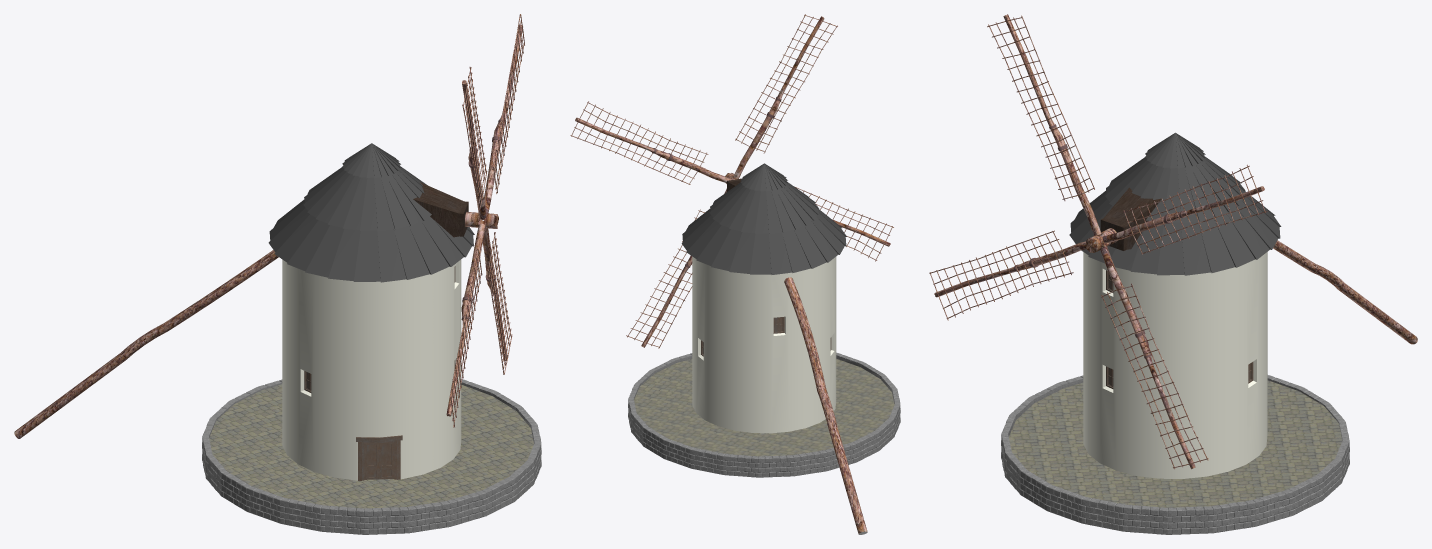
File: windmill3.obj
The picture shows the model from 3 angles, left to right: view 1: azimuth 30°, elevation 25°; view 2: azimuth 150°, elevation 25°; view 3: azimuth 270°, elevation 25°; orthographic projection. The views are drawn at different scales.
Parts seen in each view (by area): view 1: Mesh177 Componente_5_1 Group1 Model, Mesh49 Group2 Group1 Model, Mesh178 Agrupar_4_1 Group1 Model, Mesh147 Componente_1_1 Group15 Componente_6_1 Group4 Group1 Mode, Mesh148 Componente_1_2 Group15 Componente_6_1 Group4 Group1 Mode, Mesh170 Componente_1_24 Group15 Componente_6_1 Group4 Group1 Mod, Mesh149 Componente_1_3 Group15 Componente_6_1 Group4 Group1 Mode, Mesh169 Componente_1_23 Group15 Componente_6_1 Group4 Group1 Mod, Mesh150 Componente_1_4 Group15 Componente_6_1 Group4 Group1 Mode, Mesh146 Group14 Componente_6_1 Group4 Group1 Model, Mesh168 Componente_1_22 Group15 Componente_6_1 Group4 Group1 Mod, Mesh151 Componente_1_5 Group15 Componente_6_1 Group4 Group1 Mode (+11 smaller); view 2: Mesh177 Componente_5_1 Group1 Model, Mesh49 Group2 Group1 Model, Mesh178 Agrupar_4_1 Group1 Model, Mesh163 Componente_1_17 Group15 Componente_6_1 Group4 Group1 Mod, Mesh164 Componente_1_18 Group15 Componente_6_1 Group4 Group1 Mod, Mesh162 Componente_1_16 Group15 Componente_6_1 Group4 Group1 Mod, Mesh165 Componente_1_19 Group15 Componente_6_1 Group4 Group1 Mod, Mesh161 Componente_1_15 Group15 Componente_6_1 Group4 Group1 Mod, Mesh166 Componente_1_20 Group15 Componente_6_1 Group4 Group1 Mod, Mesh160 Componente_1_14 Group15 Componente_6_1 Group4 Group1 Mod, Mesh73 Componente_2_1 Group5 Group4 Group1 Model, Mesh121 Componente_2_3 Group5 Group4 Group1 Model (+11 smaller); view 3: Mesh177 Componente_5_1 Group1 Model, Mesh49 Group2 Group1 Model, Mesh156 Componente_1_10 Group15 Componente_6_1 Group4 Group1 Mod, Mesh155 Componente_1_9 Group15 Componente_6_1 Group4 Group1 Mode, Mesh157 Componente_1_11 Group15 Componente_6_1 Group4 Group1 Mod, Mesh154 Componente_1_8 Group15 Componente_6_1 Group4 Group1 Mode, Mesh178 Agrupar_4_1 Group1 Model, Mesh146 Group14 Componente_6_1 Group4 Group1 Model, Mesh158 Componente_1_12 Group15 Componente_6_1 Group4 Group1 Mod, Mesh73 Componente_2_1 Group5 Group4 Group1 Model, Mesh97 Componente_2_2 Group5 Group4 Group1 Model, Mesh159 Componente_1_13 Group15 Componente_6_1 Group4 Group1 Mod (+17 smaller).
Part boxes in pixels (x1=…): Mesh177 Componente_5_1 Group1 Model: x1=282, y1=259, x2=461, y2=480; Mesh49 Group2 Group1 Model: x1=209, y1=384, x2=533, y2=508; Mesh178 Agrupar_4_1 Group1 Model: x1=14, y1=250, x2=278, y2=438; Mesh147 Componente_1_1 Group15 Componente_6_1 Group4 Group1 Mode: x1=354, y1=143, x2=380, y2=281; Mesh148 Componente_1_2 Group15 Componente_6_1 Group4 Group1 Mode: x1=372, y1=144, x2=406, y2=282; Mesh170 Componente_1_24 Group15 Componente_6_1 Group4 Group1 Mod: x1=328, y1=144, x2=371, y2=281; Mesh149 Componente_1_3 Group15 Componente_6_1 Group4 Group1 Mode: x1=372, y1=144, x2=429, y2=279; Mesh169 Componente_1_23 Group15 Componente_6_1 Group4 Group1 Mod: x1=305, y1=144, x2=371, y2=277; Mesh150 Componente_1_4 Group15 Componente_6_1 Group4 Group1 Mode: x1=372, y1=144, x2=449, y2=274; Mesh146 Group14 Componente_6_1 Group4 Group1 Model: x1=413, y1=182, x2=468, y2=237; Mesh168 Componente_1_22 Group15 Componente_6_1 Group4 Group1 Mod: x1=287, y1=144, x2=370, y2=271; Mesh151 Componente_1_5 Group15 Componente_6_1 Group4 Group1 Mode: x1=373, y1=145, x2=463, y2=266; Mesh177 Componente_5_1 Group1 Model: x1=692, y1=256, x2=836, y2=433; Mesh49 Group2 Group1 Model: x1=634, y1=359, x2=894, y2=456; Mesh178 Agrupar_4_1 Group1 Model: x1=784, y1=277, x2=867, y2=534; Mesh163 Componente_1_17 Group15 Componente_6_1 Group4 Group1 Mod: x1=750, y1=165, x2=771, y2=274; Mesh164 Componente_1_18 Group15 Componente_6_1 Group4 Group1 Mod: x1=764, y1=164, x2=792, y2=274; Mesh162 Componente_1_16 Group15 Componente_6_1 Group4 Group1 Mod: x1=729, y1=164, x2=764, y2=273; Mesh165 Componente_1_19 Group15 Componente_6_1 Group4 Group1 Mod: x1=764, y1=164, x2=810, y2=272; Mesh161 Componente_1_15 Group15 Componente_6_1 Group4 Group1 Mod: x1=711, y1=164, x2=763, y2=271; Mesh166 Componente_1_20 Group15 Componente_6_1 Group4 Group1 Mod: x1=765, y1=164, x2=826, y2=268; Mesh160 Componente_1_14 Group15 Componente_6_1 Group4 Group1 Mod: x1=696, y1=164, x2=763, y2=265; Mesh73 Componente_2_1 Group5 Group4 Group1 Model: x1=733, y1=16, x2=824, y2=178; Mesh121 Componente_2_3 Group5 Group4 Group1 Model: x1=575, y1=117, x2=730, y2=183; Mesh177 Componente_5_1 Group1 Model: x1=1083, y1=252, x2=1267, y2=478; Mesh49 Group2 Group1 Model: x1=1009, y1=380, x2=1342, y2=507; Mesh156 Componente_1_10 Group15 Componente_6_1 Group4 Group1 Mod: x1=1175, y1=134, x2=1210, y2=275; Mesh155 Componente_1_9 Group15 Componente_6_1 Group4 Group1 Mode: x1=1157, y1=133, x2=1184, y2=275; Mesh157 Componente_1_11 Group15 Componente_6_1 Group4 Group1 Mod: x1=1175, y1=133, x2=1234, y2=272; Mesh154 Componente_1_8 Group15 Componente_6_1 Group4 Group1 Mode: x1=1130, y1=133, x2=1175, y2=274; Mesh178 Agrupar_4_1 Group1 Model: x1=1273, y1=240, x2=1417, y2=344; Mesh146 Group14 Componente_6_1 Group4 Group1 Model: x1=1100, y1=187, x2=1161, y2=250; Mesh158 Componente_1_12 Group15 Componente_6_1 Group4 Group1 Mod: x1=1176, y1=134, x2=1255, y2=267; Mesh73 Componente_2_1 Group5 Group4 Group1 Model: x1=1003, y1=14, x2=1101, y2=235; Mesh97 Componente_2_2 Group5 Group4 Group1 Model: x1=1100, y1=246, x2=1195, y2=469; Mesh159 Componente_1_13 Group15 Componente_6_1 Group4 Group1 Mod: x1=1176, y1=133, x2=1269, y2=259.
Size of the model in its own units: 1015 by 985 by 951.
9 materials, 6 textured.
